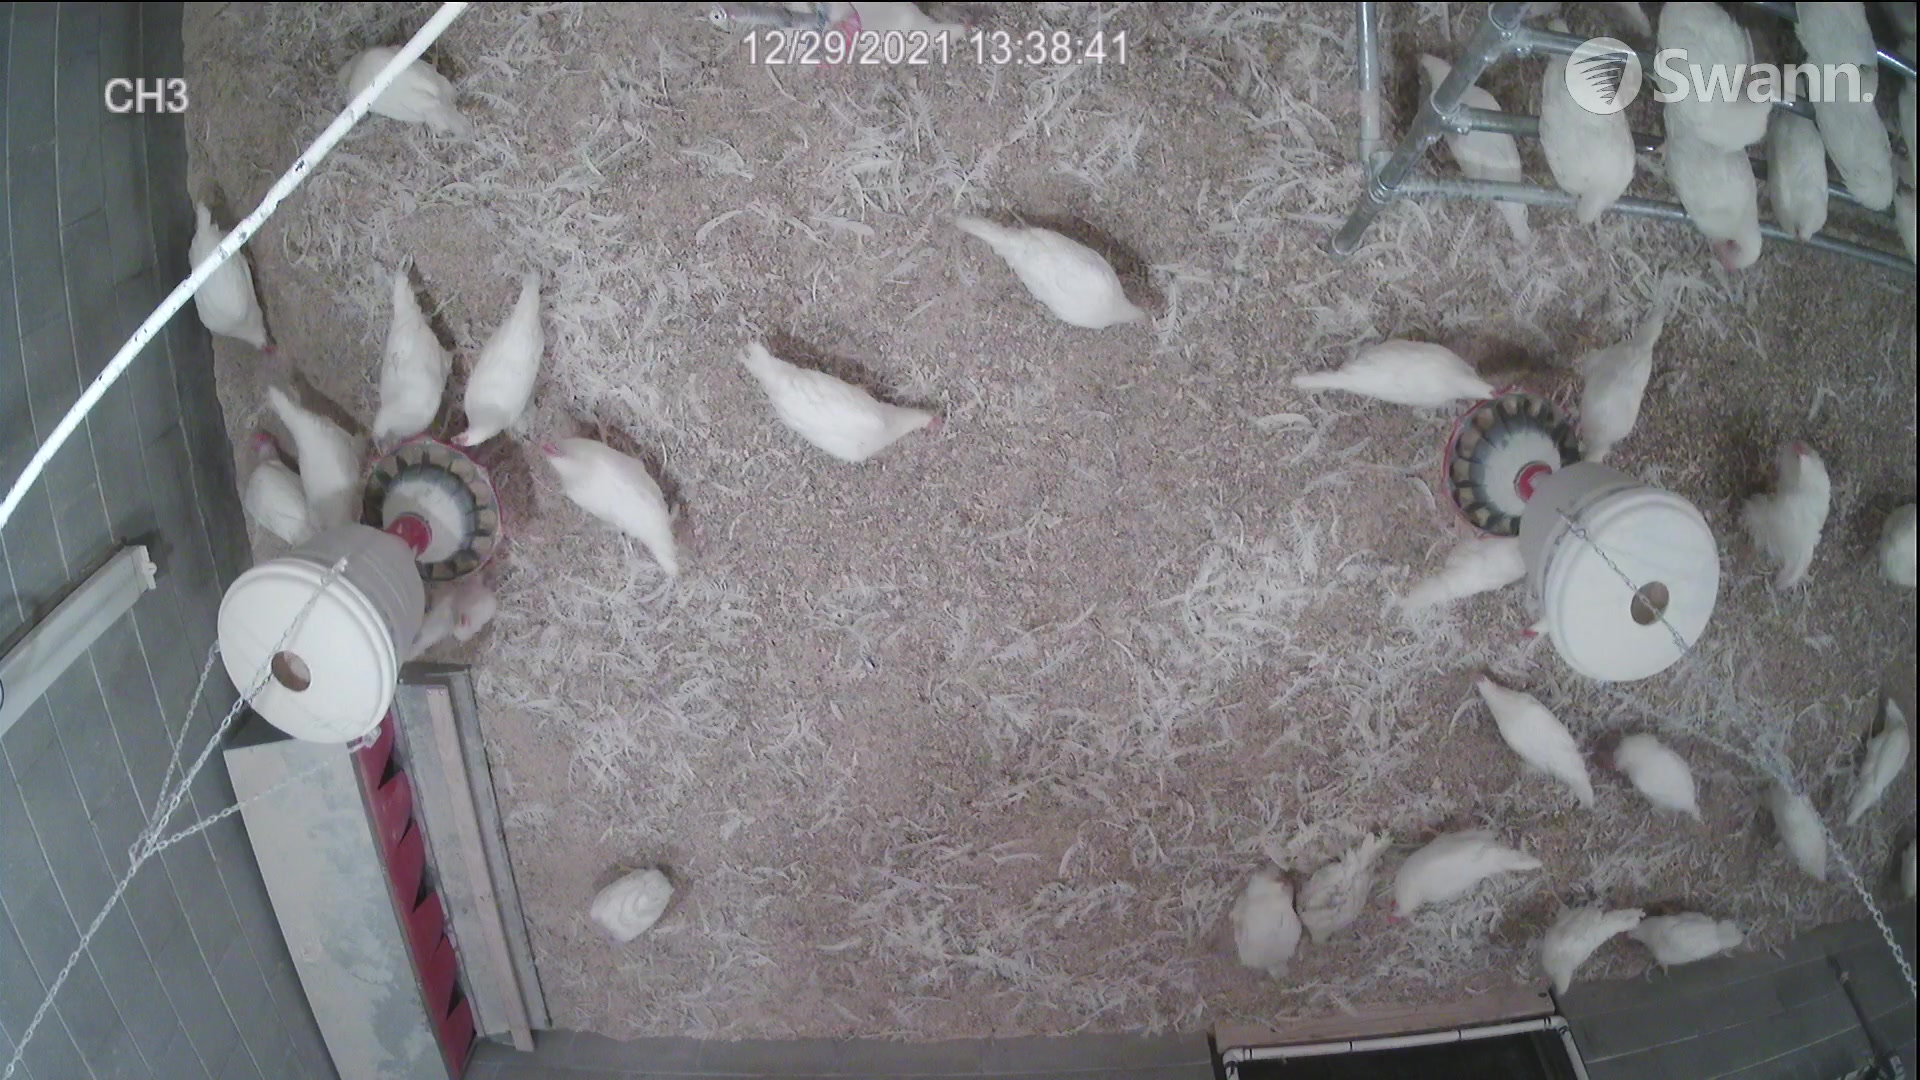Dust Bathing: (1212, 855, 1320, 975), (1280, 832, 1389, 928)
Feeding: (1273, 327, 1523, 422), (356, 252, 459, 483), (422, 290, 549, 477), (1575, 302, 1662, 462)
Foraging: (735, 334, 982, 465), (960, 215, 1160, 353), (1469, 659, 1606, 808), (175, 200, 287, 363), (327, 37, 480, 132), (1756, 774, 1840, 890), (585, 869, 705, 945)
Perching: (1542, 15, 1630, 228), (1654, 116, 1771, 269), (1669, 0, 1764, 149), (1817, 87, 1905, 222), (1764, 98, 1825, 232), (1788, 0, 1898, 66)
